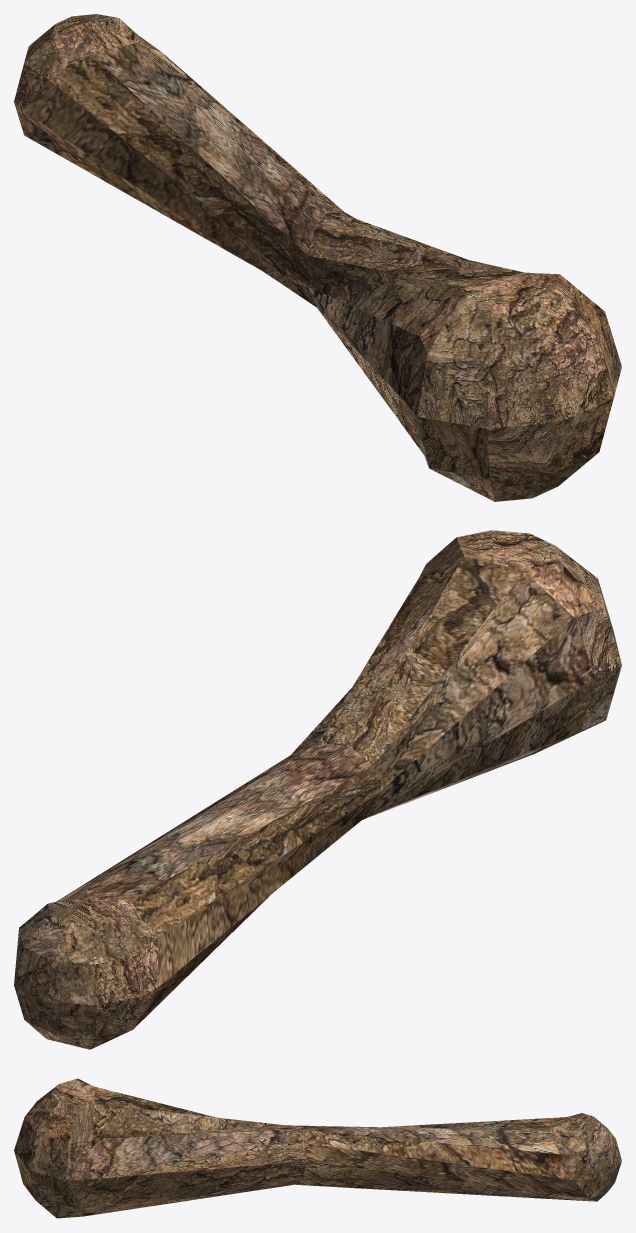
File: forearm_v3.glb
3 renders of one model, top to bottom at view 1: azimuth 30°, elevation 25°; view 2: azimuth 150°, elevation 25°; view 3: azimuth 270°, elevation 25°, orthographic. The views are drawn at different scales.
Parts seen in each view (by area): view 1: Cylinder.026; view 2: Cylinder.026; view 3: Cylinder.026.
Part boxes in pixels (x1,y1,x2,y2): Cylinder.026: (14,14,621,501); Cylinder.026: (14,530,621,1049); Cylinder.026: (14,1078,621,1218).
Size of what is drawn, in the model's own units: 2.48 by 2.26 by 10.68.
Materials: 2 (2 with a texture image).
